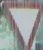Give way: (0, 1, 40, 49)
